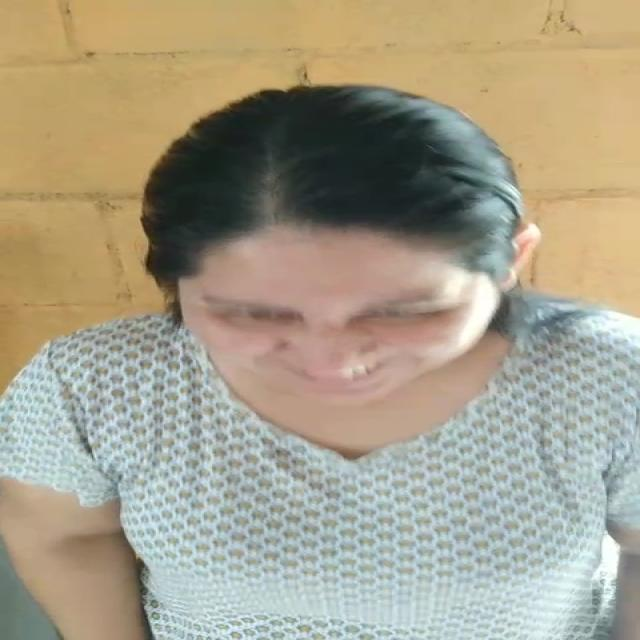9_cabeza_baja: (138, 84, 542, 405)
